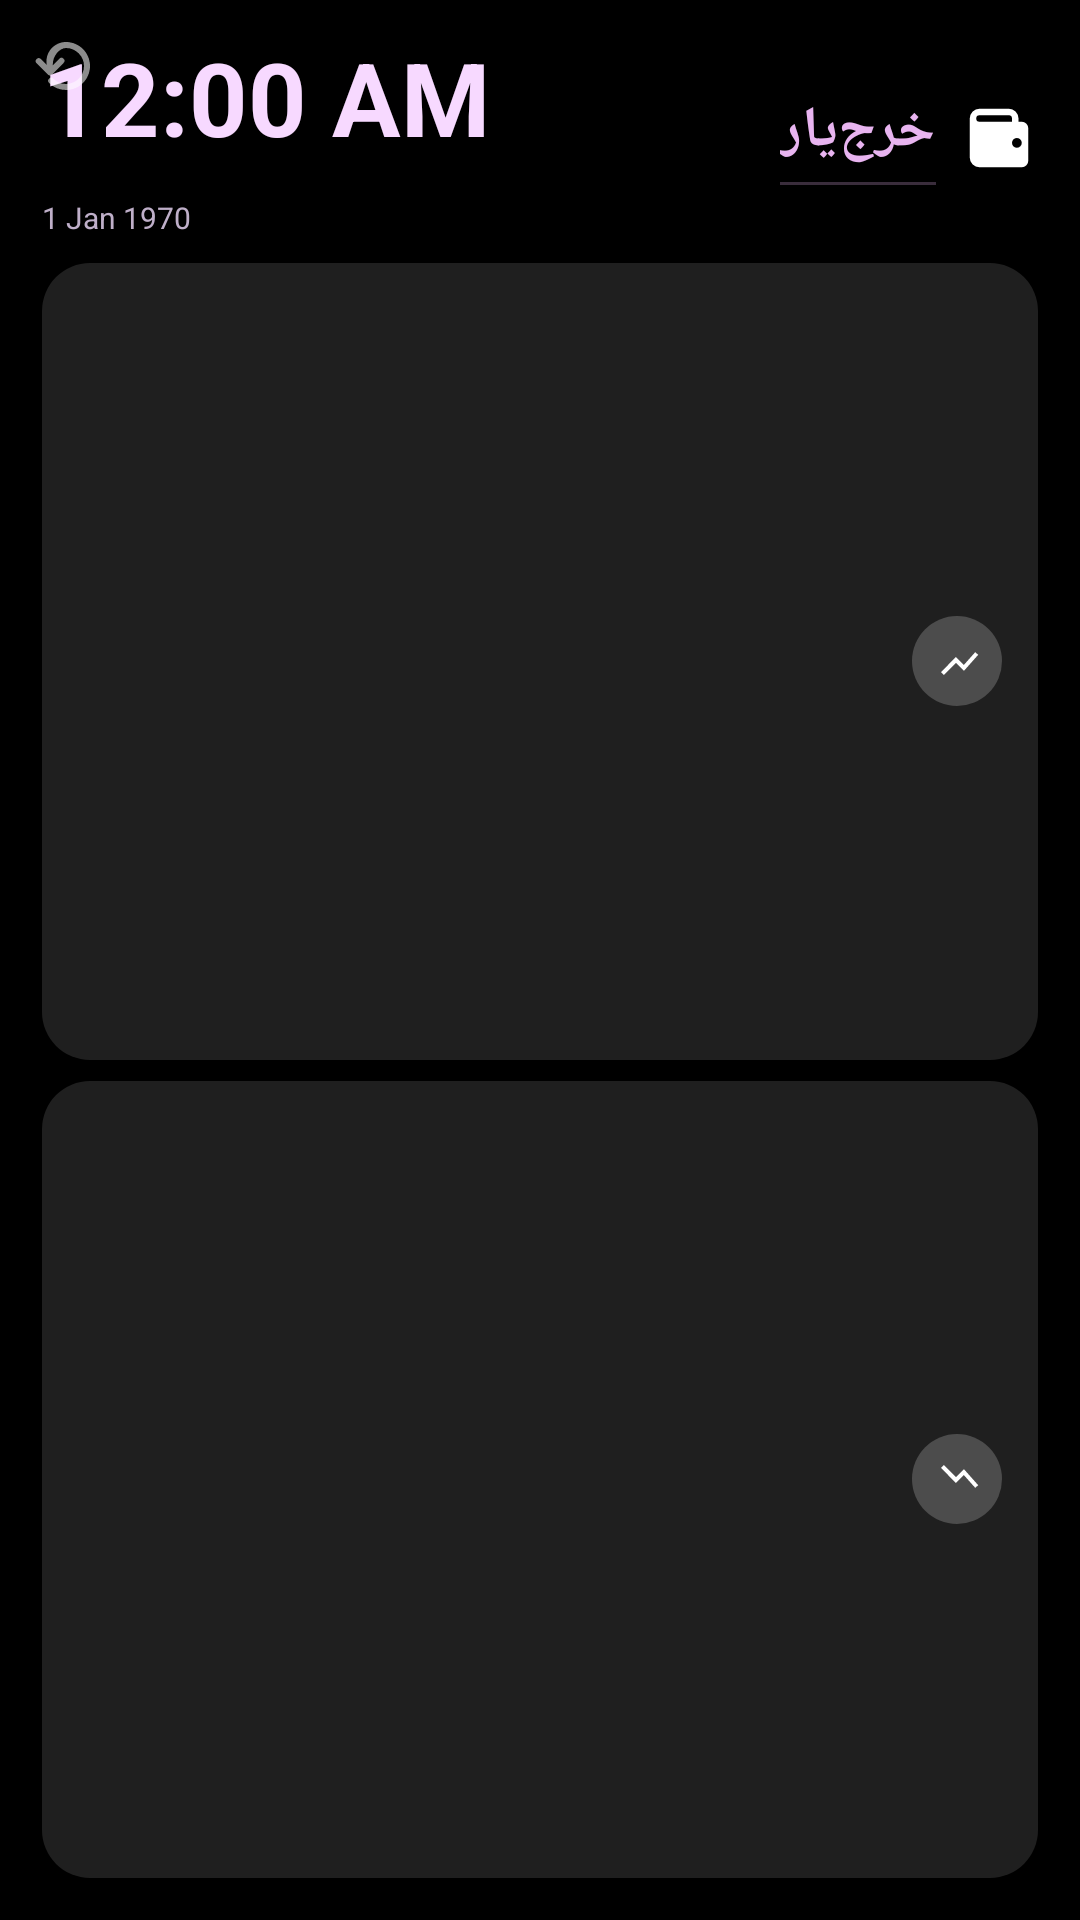

Screen size 1080*1920. Icon name, then its box in pixels as [x1,y1,x2,y2]:
down: [941,1465,978,1488]
wallet: [969,108,1029,168]
